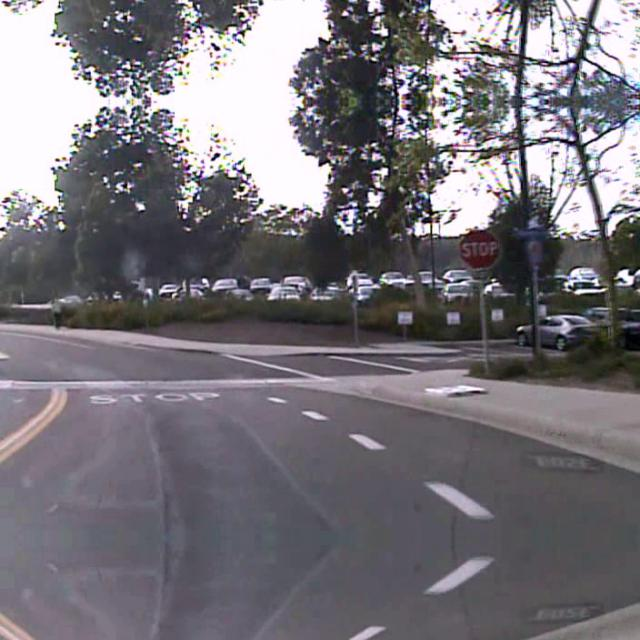stop: (458, 228, 500, 268)
